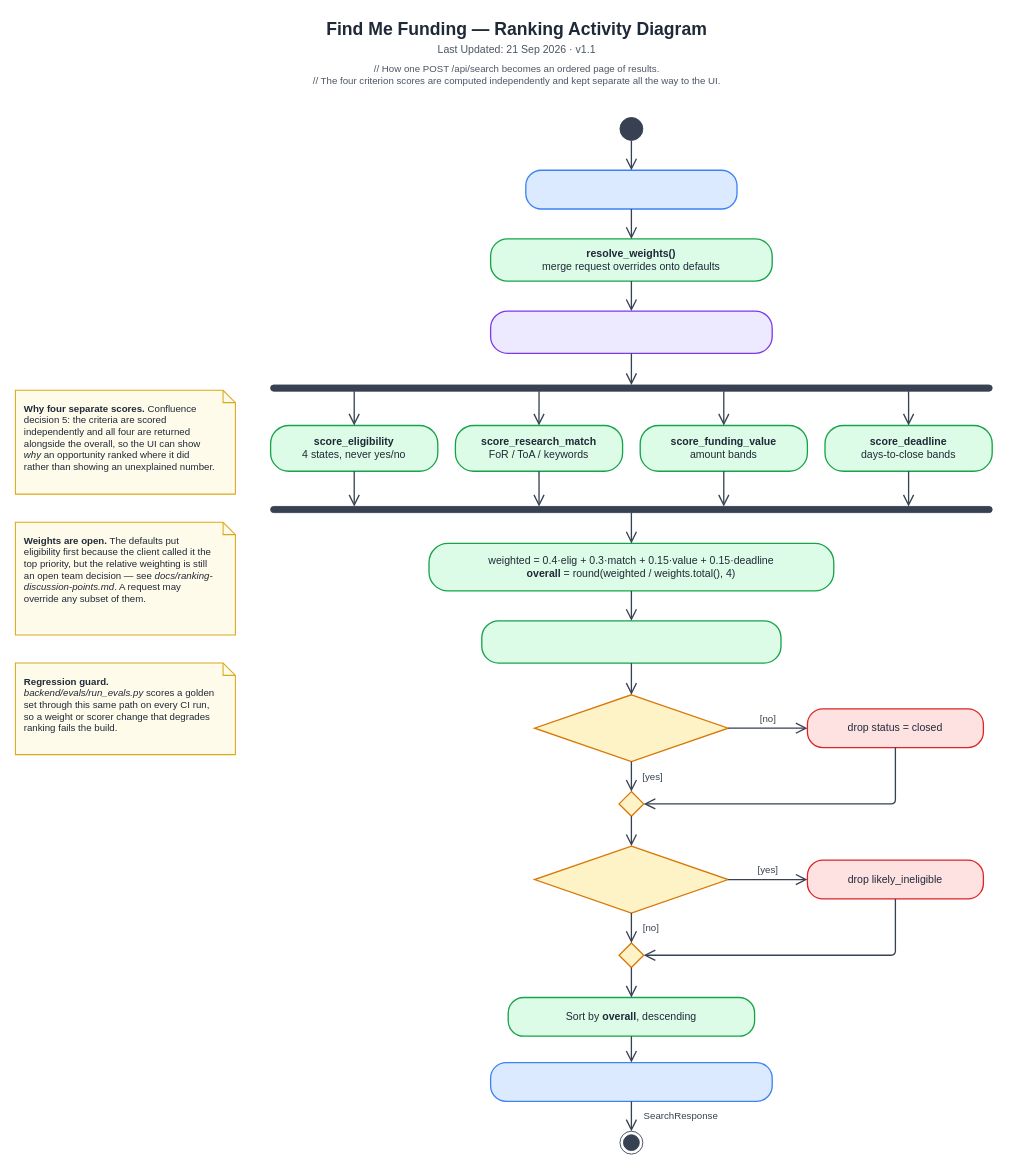
Image size: 1034x1170. Some labels were removed from this diagram. The shapes that lost their labels are listed below. From the top down, each one's box as (x1, y1, x2, y2) in pixels, then its label:
(525, 169, 737, 209): Receive SearchRequest
(490, 310, 772, 354): OpportunityRepository.all() load every indexed opportunity
(481, 620, 781, 663): Build RankedOpportunity all four CriterionResults travel with it
(534, 694, 728, 762): include_closed?
(534, 845, 728, 913): hide_ineligible?
(490, 1062, 772, 1102): Page: results[offset : offset + limit]
